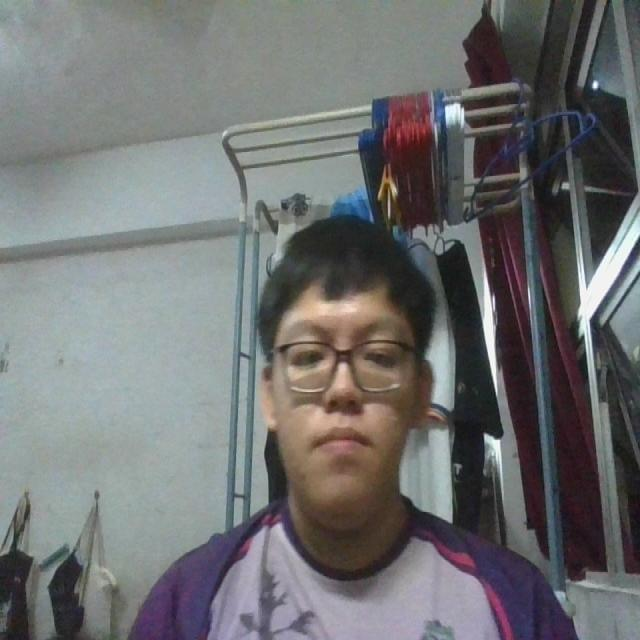person_without_labcoat: (130, 216, 577, 639)
